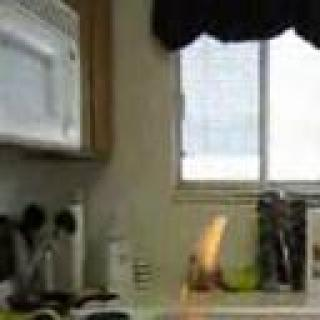fire: (117, 305, 250, 320)
